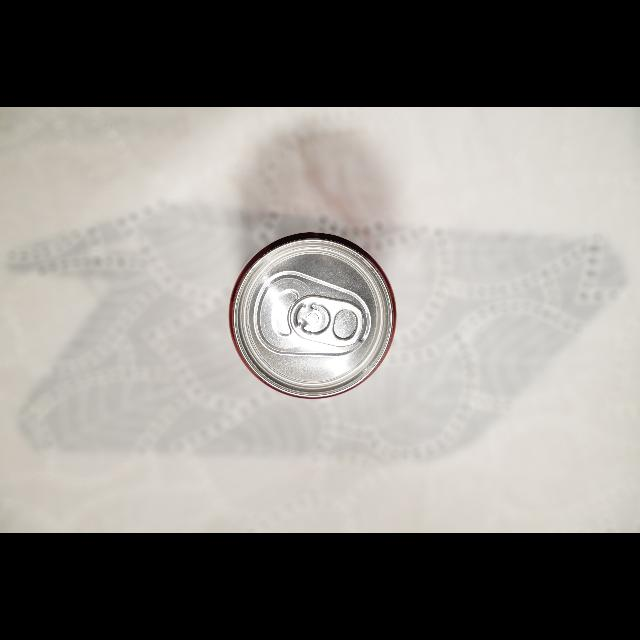coca_cola: (228, 232, 396, 400)
